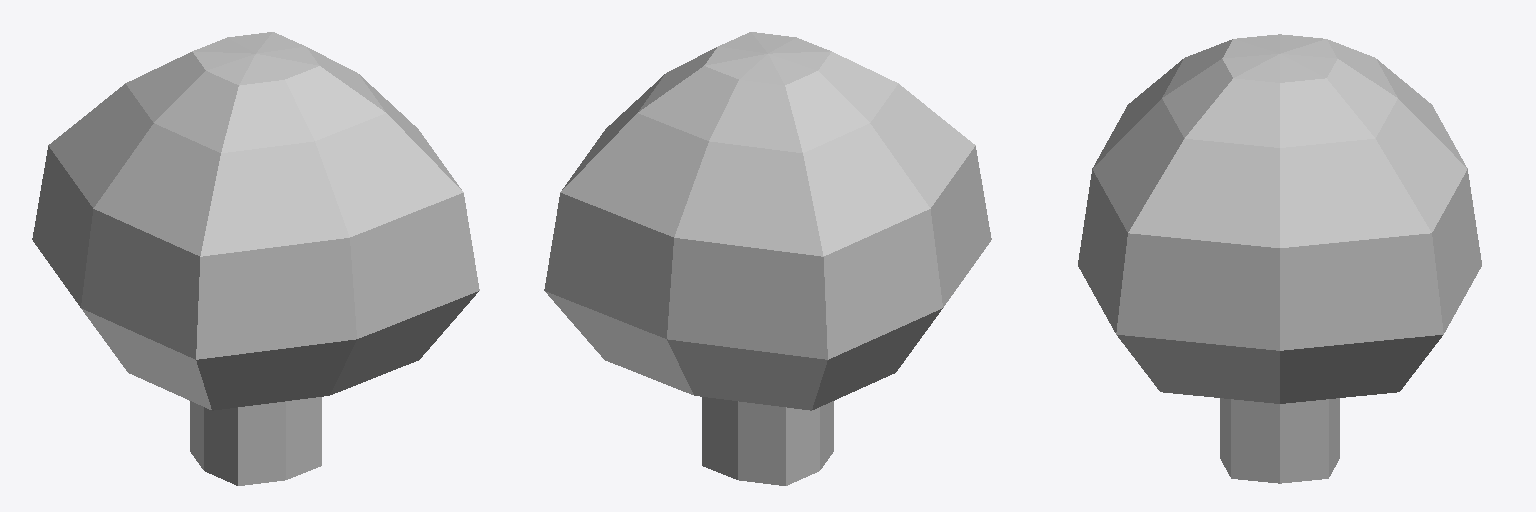
Rendered from ForestTreeDShort.obj.
3 views of the same model, side by side, from view 1: azimuth 30°, elevation 25°; view 2: azimuth 150°, elevation 25°; view 3: azimuth 270°, elevation 25° (orthographic).
Visible parts, largest first — view 1: ForestTreeDShort; view 2: ForestTreeDShort; view 3: ForestTreeDShort.
Boxes of the visible parts, x1,y1,x2,y2 form: ForestTreeDShort: [32, 32, 479, 485]; ForestTreeDShort: [544, 32, 991, 485]; ForestTreeDShort: [1078, 34, 1481, 483].
Bounding box in the file's own units: 166 × 183 × 166.